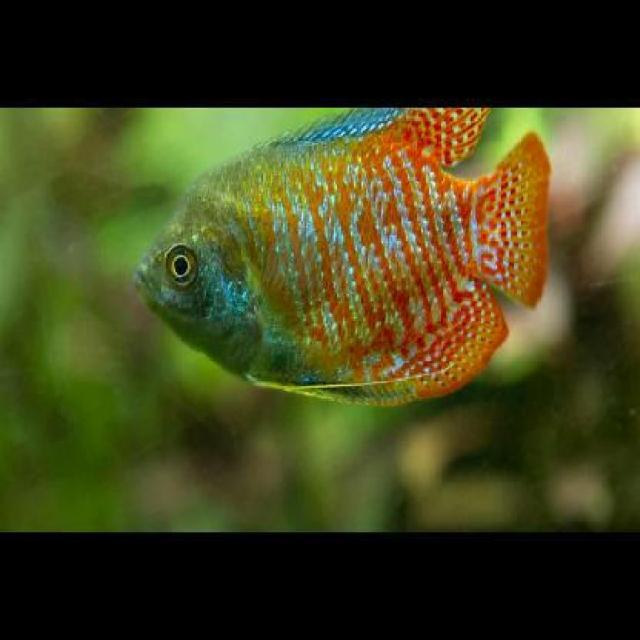Gourami: (136, 106, 550, 408)
